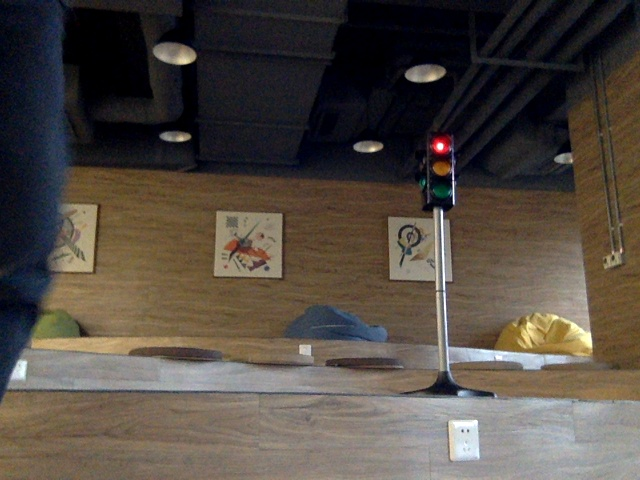red: (428, 137, 454, 198)
